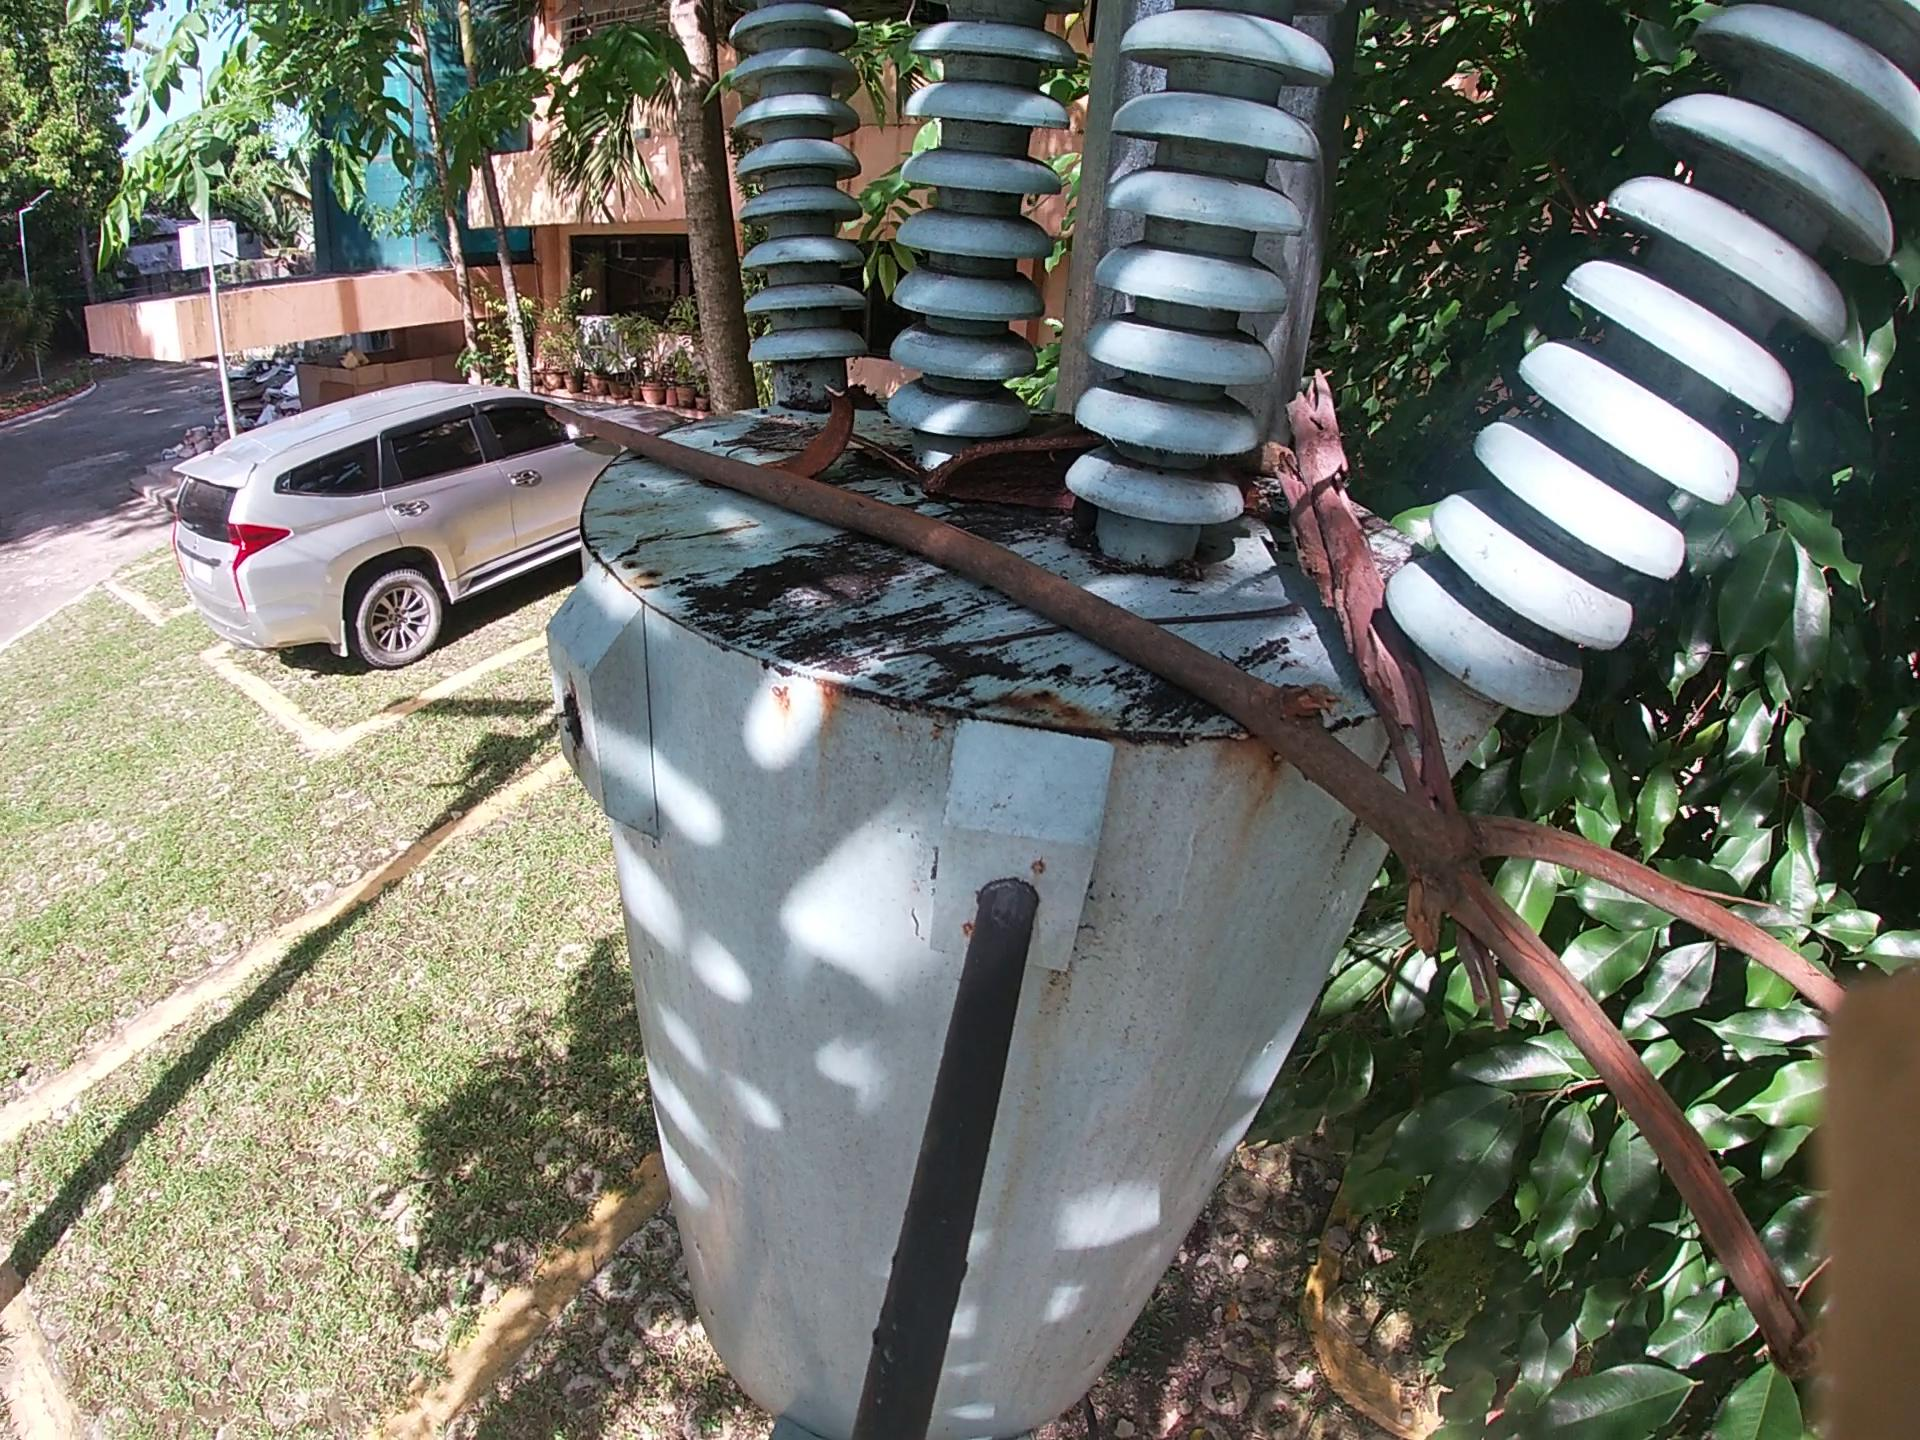mahogany fruit: (930, 433, 1105, 507), (771, 392, 862, 473)
tree branch: (534, 375, 1858, 1373), (1273, 398, 1515, 1035), (868, 605, 1302, 667), (862, 436, 921, 487), (730, 427, 816, 458), (1008, 411, 1076, 437), (1255, 440, 1302, 473)
